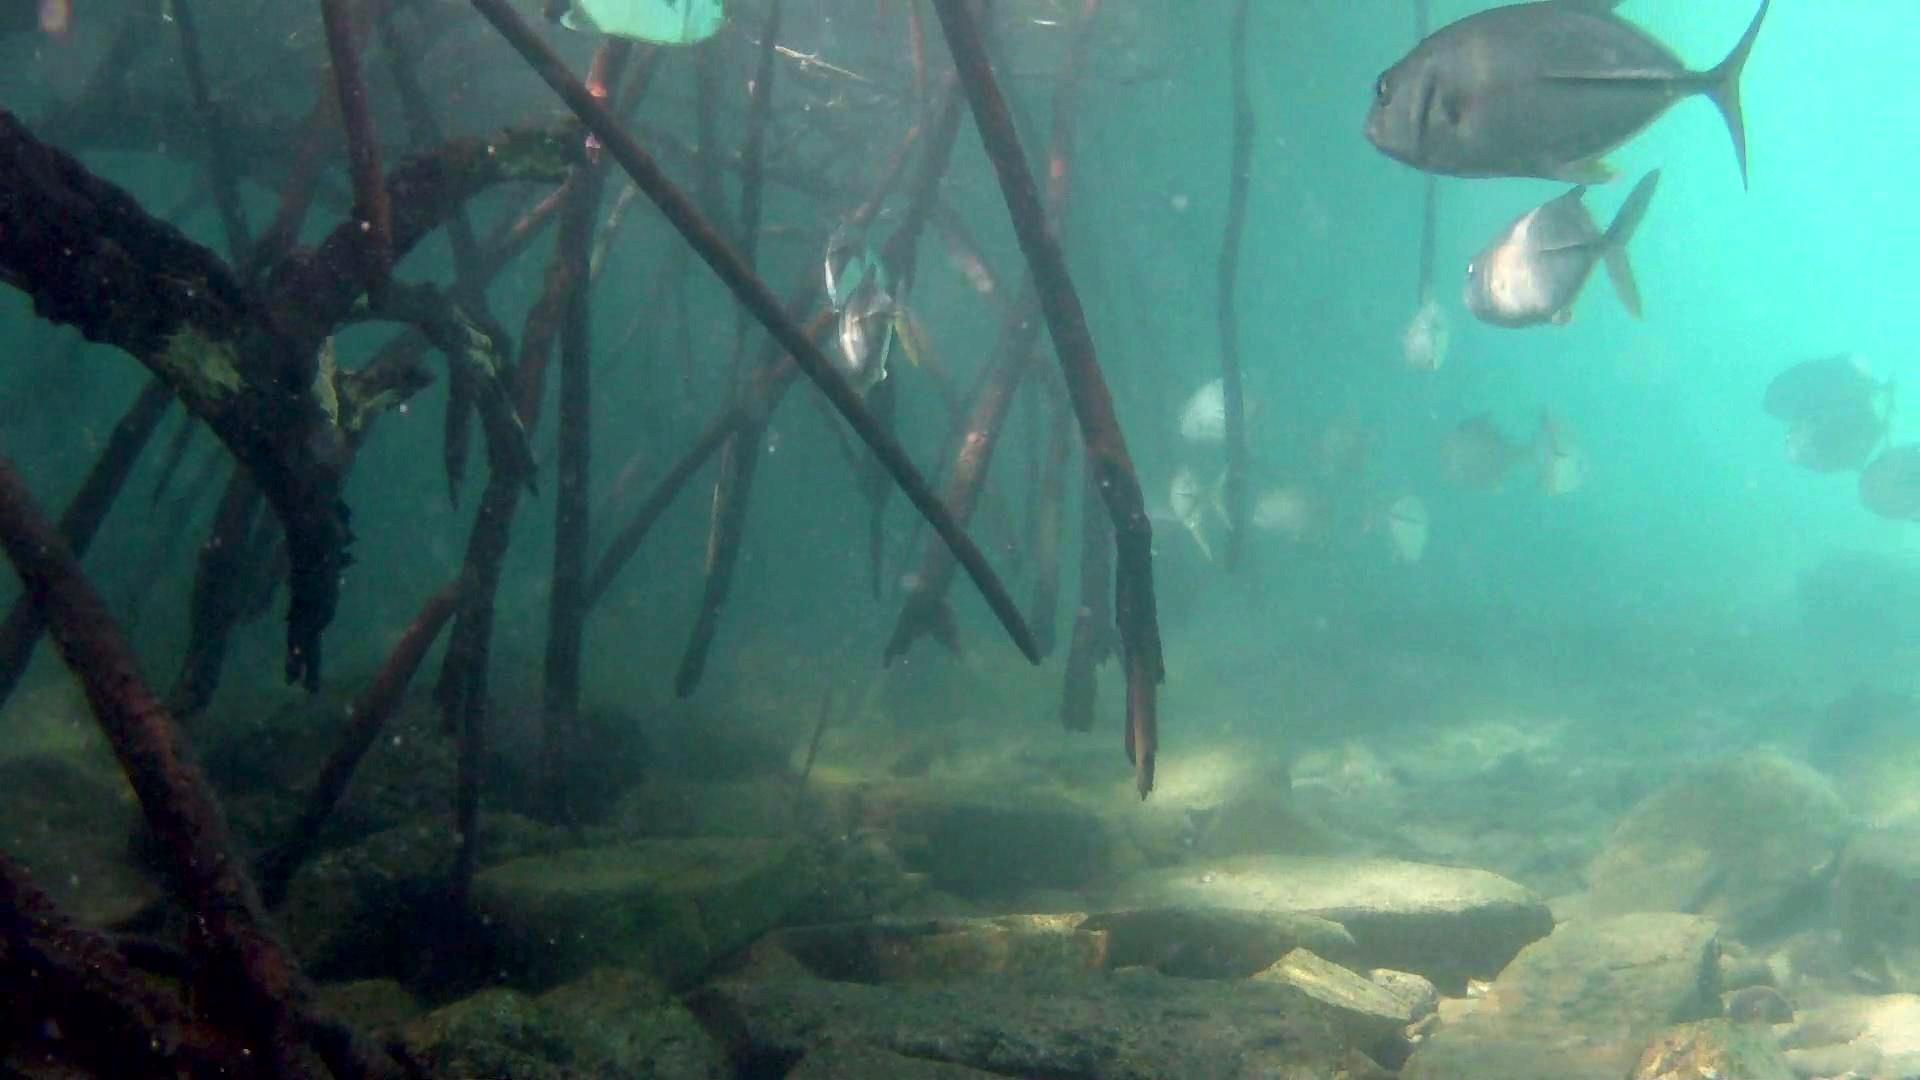caranx: (1356, 0, 1783, 190), (1458, 165, 1693, 338)
